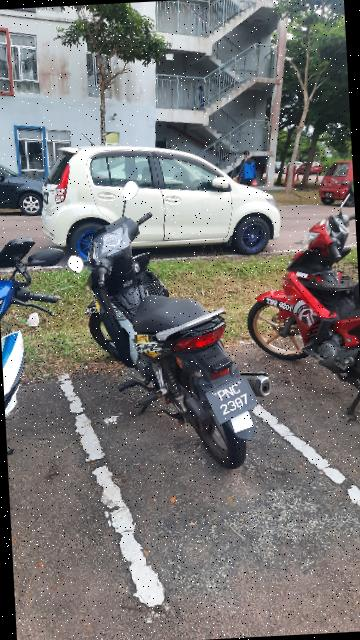License_Plate: (195, 373, 273, 432)
car: (30, 119, 304, 272)
motorcycle: (58, 176, 282, 481), (239, 177, 360, 408)
